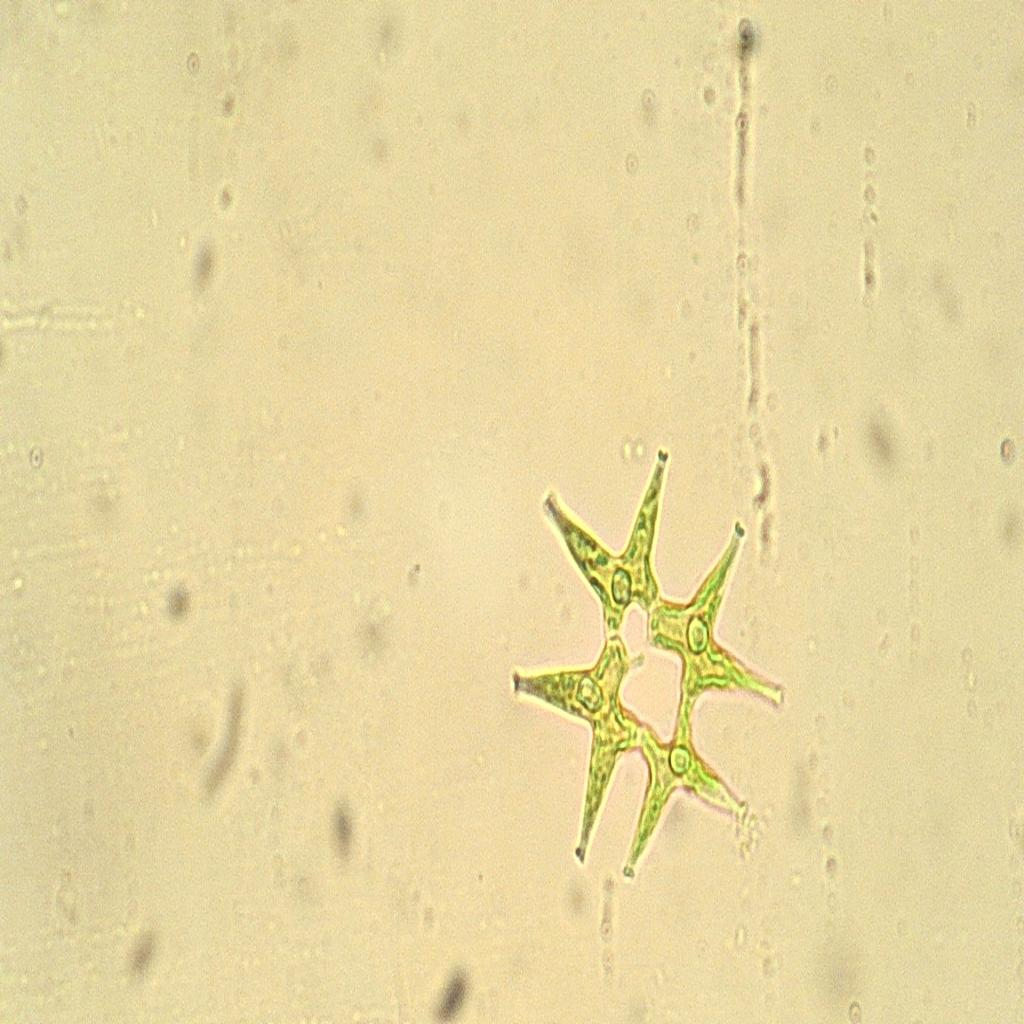Pediastrum_75FO: (494, 418, 809, 923)
